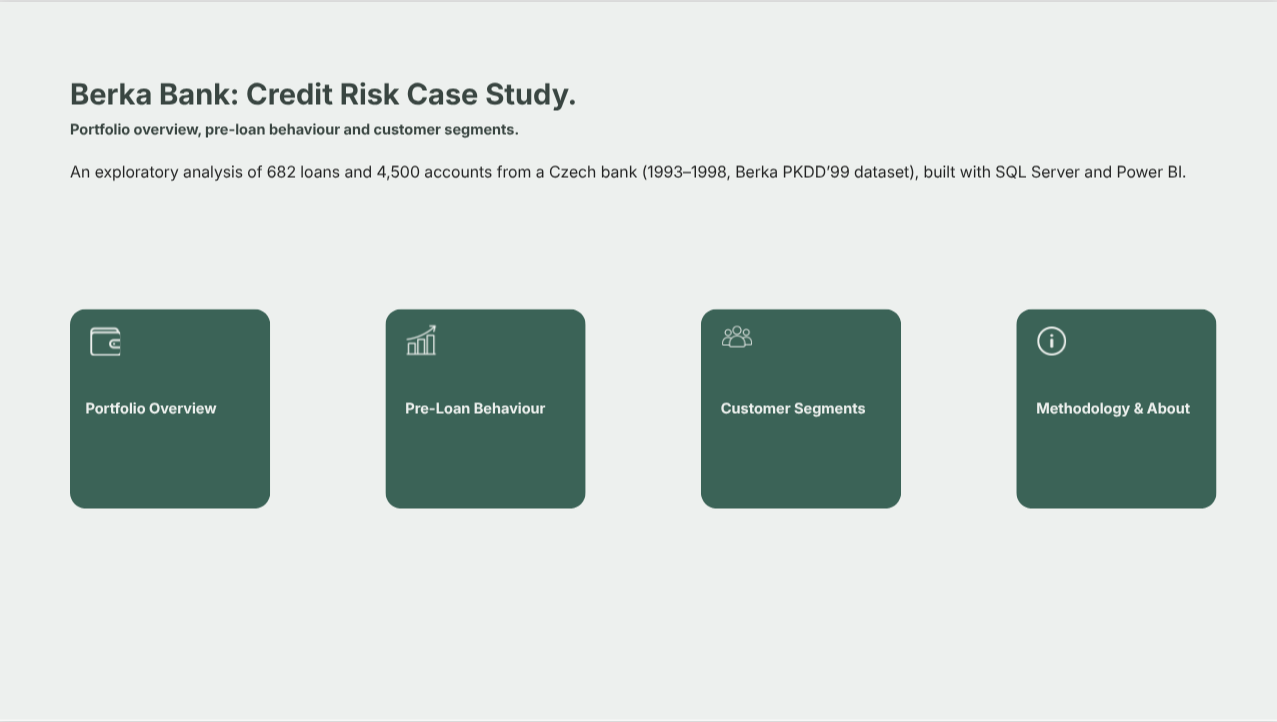

Layout of this report page (visuals, bound fields, positions):
{"tool":"powerbi","page":{"name":"Home","canvas":[1280,720],"ordinal":0},"visuals":[{"type":"actionButton","box":[72.5,307.5,200,200],"z":0},{"type":"actionButton","box":[386.2,307.5,200,200],"z":1000},{"type":"actionButton","box":[701.2,307.5,202.5,200],"z":2000},{"type":"actionButton","box":[1018.8,307.5,201.2,200],"z":3000}]}

Visuals, with their boxes in screenshot pixels (x1, y1, x2, y2), scaled from the page's 1280x720 canvas onto the 1277x722 screenshot:
actionButton: 72/308/272/509
actionButton: 385/308/585/509
actionButton: 700/308/902/509
actionButton: 1016/308/1217/509
